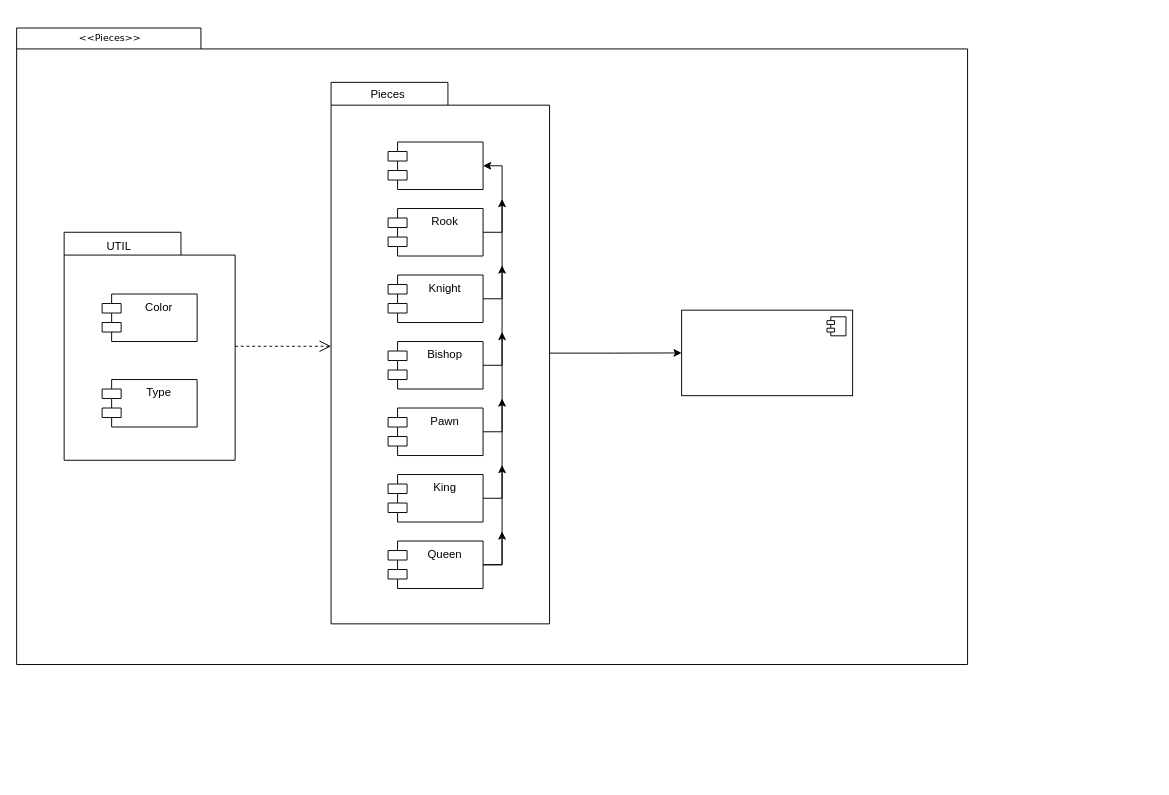
Some shapes in this 1169 by 795 pixel diagram are drawn without their labels. The centre of each missing label's shape, as x and y in pixels:
"Piece" belongs at (x=435, y=165).
"«Package» Game" belongs at (x=767, y=352).
